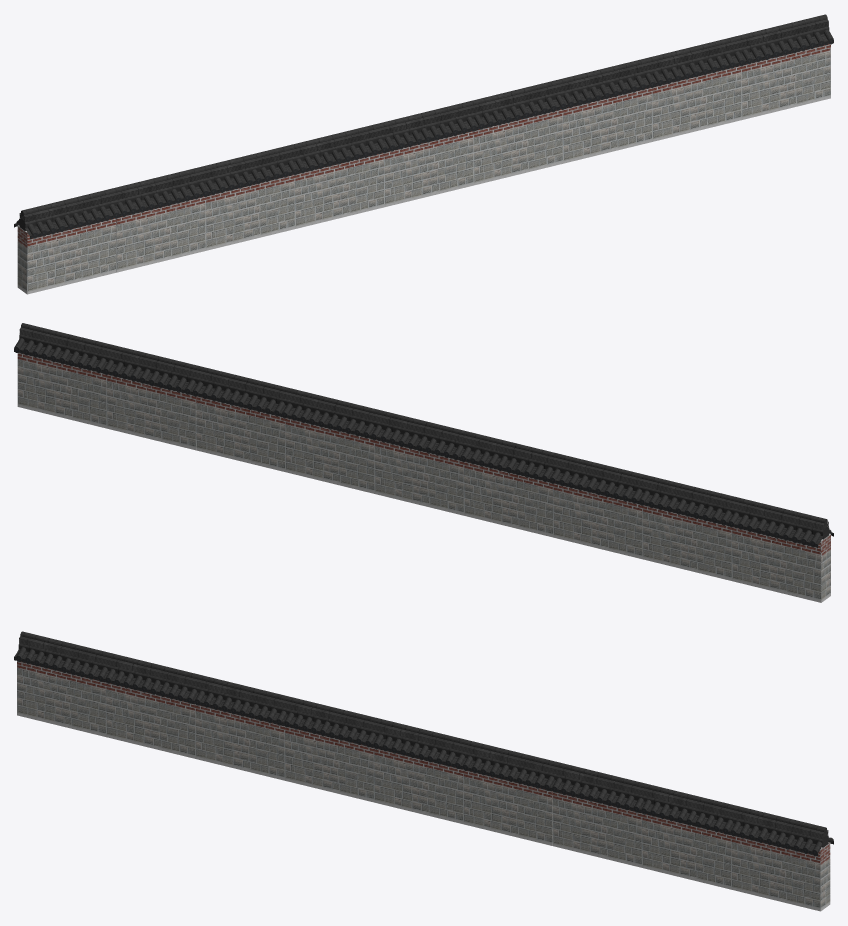
File: SM_DG_HG_StoneWallH_Splines_6.fbx
The picture shows the model from 3 angles, top to bottom: view 1: azimuth 30°, elevation 25°; view 2: azimuth 150°, elevation 25°; view 3: azimuth 330°, elevation 25°; orthographic projection.
Visible parts, largest first — view 1: SM_DG_HG_StoneWallH_Splines_6; view 2: SM_DG_HG_StoneWallH_Splines_6; view 3: SM_DG_HG_StoneWallH_Splines_6.
Boxes of the visible parts, x1=… form: SM_DG_HG_StoneWallH_Splines_6: x1=14, y1=14, x2=833, y2=294; SM_DG_HG_StoneWallH_Splines_6: x1=14, y1=323, x2=833, y2=602; SM_DG_HG_StoneWallH_Splines_6: x1=14, y1=631, x2=833, y2=911.
Size of the model in its own units: 1870 by 65.49 by 178.
